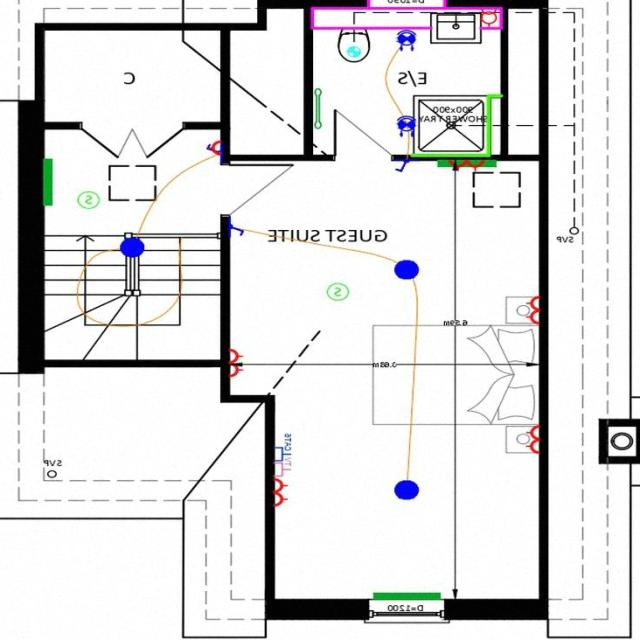Cat 6 Data Socket: (274, 431, 296, 461)
Ceiling Mounted Continuous Extract FanWith Boost Mode Activated By Light Switch: (348, 45, 363, 56)
Double Socket: (449, 158, 486, 173), (526, 423, 542, 455), (276, 475, 290, 509), (231, 346, 245, 379), (527, 294, 541, 325)
Full Height Tiling: (413, 92, 502, 154)
Light Switch: (231, 220, 246, 238), (395, 159, 412, 173), (207, 143, 222, 153)
Low Energy Downlighter: (399, 28, 418, 52), (399, 115, 416, 136)
Low Energy Pendant Light: (121, 235, 147, 256), (395, 480, 421, 500), (395, 259, 420, 279)
Mains Wired Smoke Detector: (328, 281, 350, 300), (78, 191, 100, 209)
Radiator: (374, 591, 442, 599), (44, 157, 54, 206), (438, 159, 498, 167)
Shaver Socket: (482, 7, 499, 28)
Single Socket: (205, 138, 224, 157)
TV - Satellite Multisocket: (274, 457, 294, 476)
